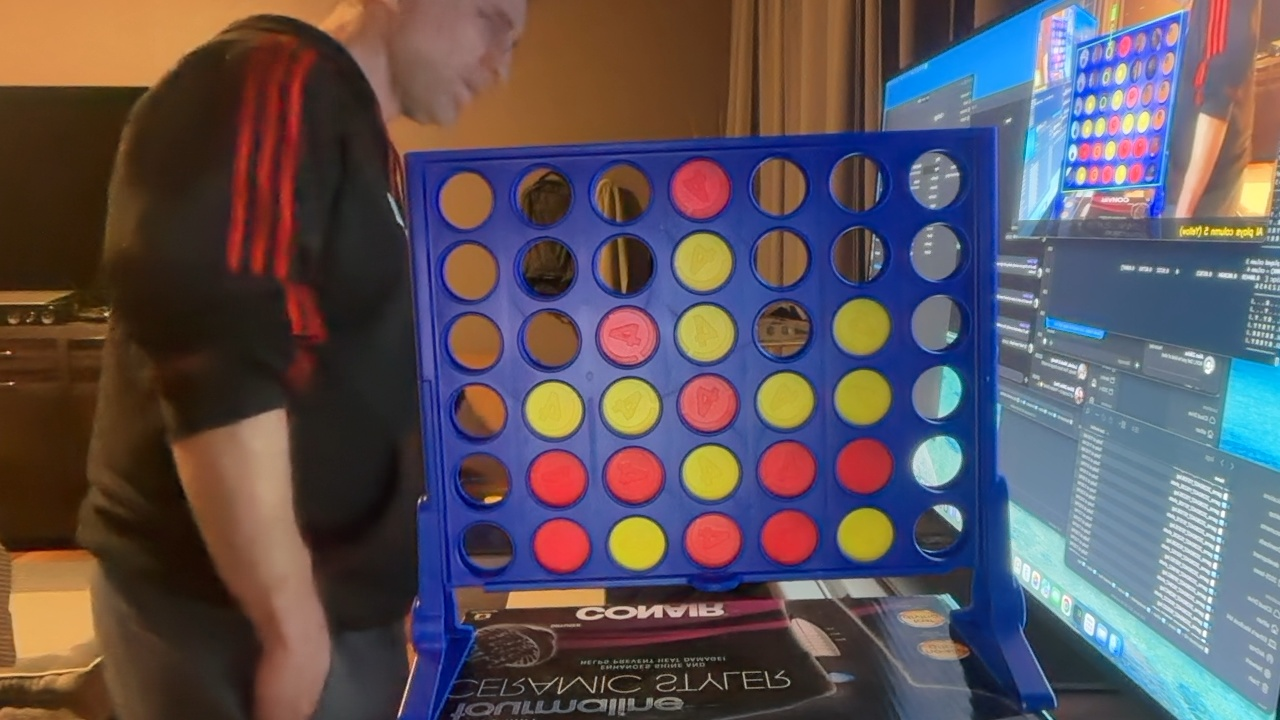red piece: (671, 158, 730, 220), (598, 307, 658, 366), (679, 374, 738, 433), (604, 447, 664, 504), (758, 440, 816, 498), (529, 450, 587, 508), (836, 438, 893, 494), (761, 510, 818, 565), (684, 513, 741, 568), (533, 519, 590, 573)
yellow piece: (673, 232, 733, 292), (676, 304, 736, 363), (756, 371, 815, 430), (524, 381, 584, 439), (601, 378, 661, 436), (833, 298, 891, 356), (681, 445, 741, 501), (834, 369, 892, 425), (608, 516, 666, 571), (837, 508, 894, 562)
